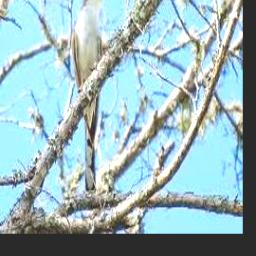Cuckoo: (71, 0, 111, 198)
